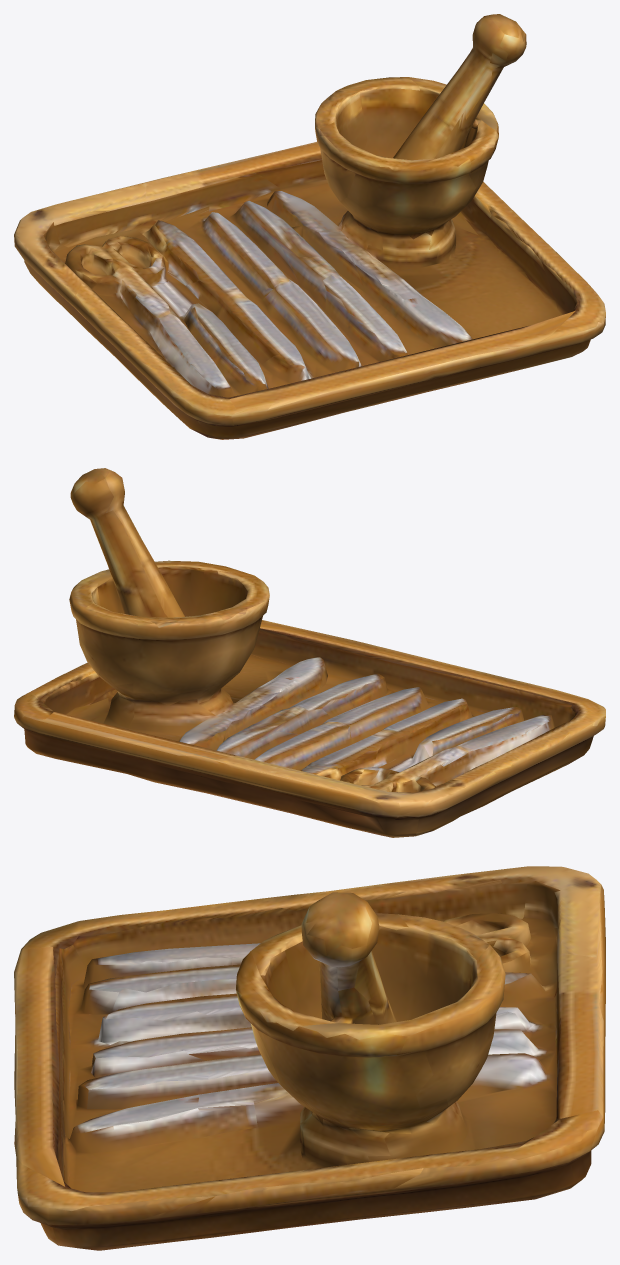
The model's file is instrument-tray.glb.
The picture shows the model from 3 angles, top to bottom: view 1: azimuth 30°, elevation 25°; view 2: azimuth 150°, elevation 25°; view 3: azimuth 270°, elevation 25°; orthographic projection. The views are drawn at different scales.
Visible parts, largest first — view 1: instrument-tray; view 2: instrument-tray; view 3: instrument-tray.
Boxes of the visible parts, box(x1,y1,x2,y2) form: instrument-tray: box(14, 14, 605, 439); instrument-tray: box(14, 468, 605, 837); instrument-tray: box(14, 866, 605, 1250).
Bounding box in the file's own units: 1.16 × 0.6651 × 0.9793.
Materials: 1 (1 with a texture image).
